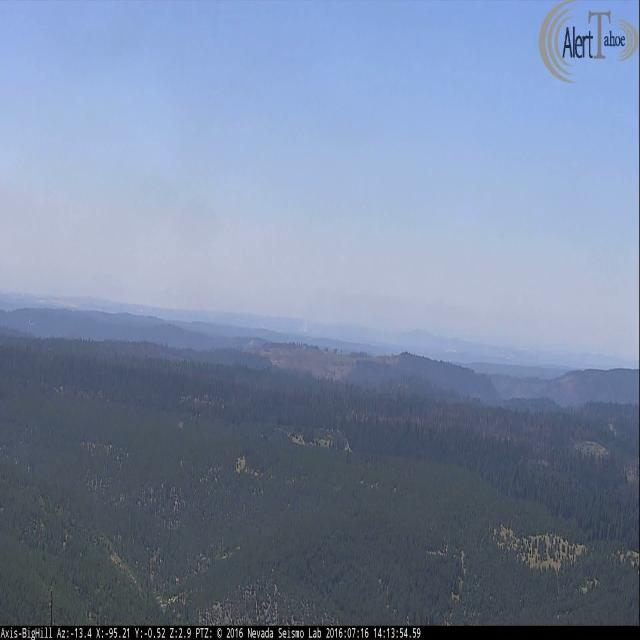smoke: (299, 292, 329, 331)
